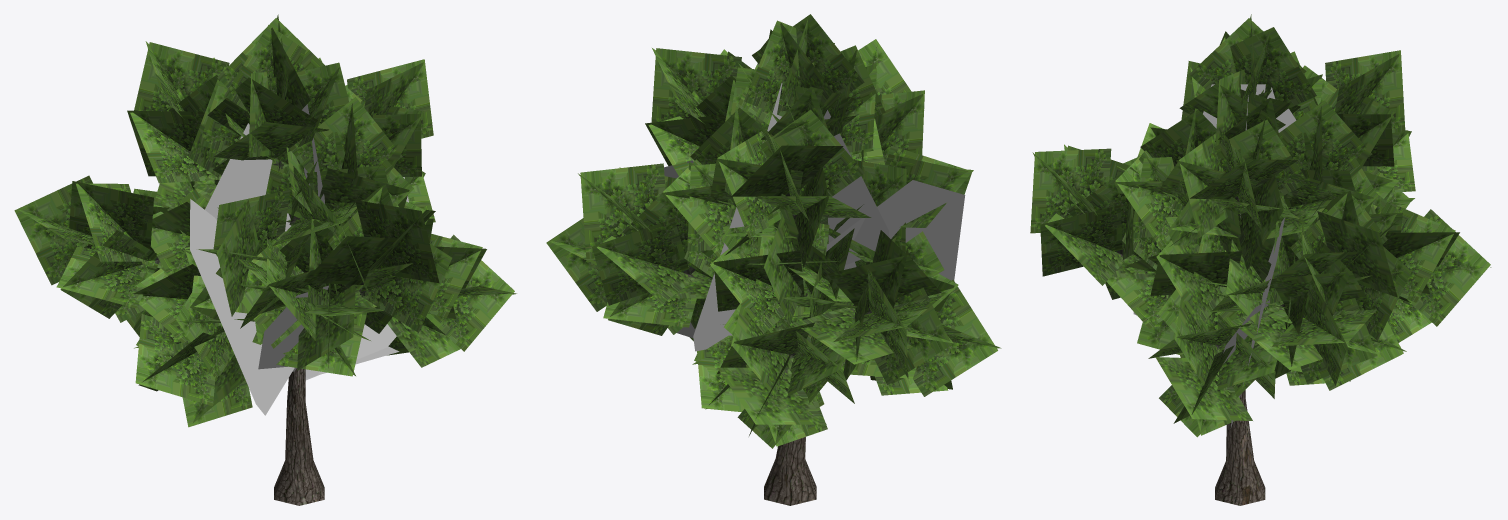
The model's file is oak-800.fbx.
3 renders of one model, left to right at view 1: azimuth 30°, elevation 25°; view 2: azimuth 150°, elevation 25°; view 3: azimuth 270°, elevation 25°, orthographic. The views are drawn at different scales.
Visible parts, largest first — view 1: oak_800; view 2: oak_800; view 3: oak_800.
Boxes of the visible parts, x1,y1,x2,y2 form: oak_800: (14, 14, 516, 505); oak_800: (546, 14, 1001, 505); oak_800: (1030, 14, 1491, 505).
Size of the model in its own units: 1731 by 1975 by 1773.
